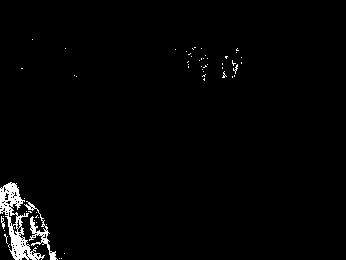person: (1, 182, 54, 260)
